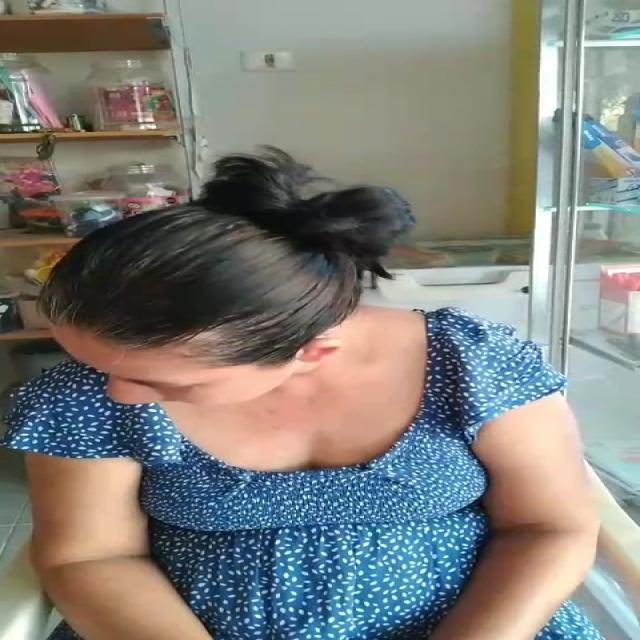9_cabeza_baja: (42, 149, 418, 407)
